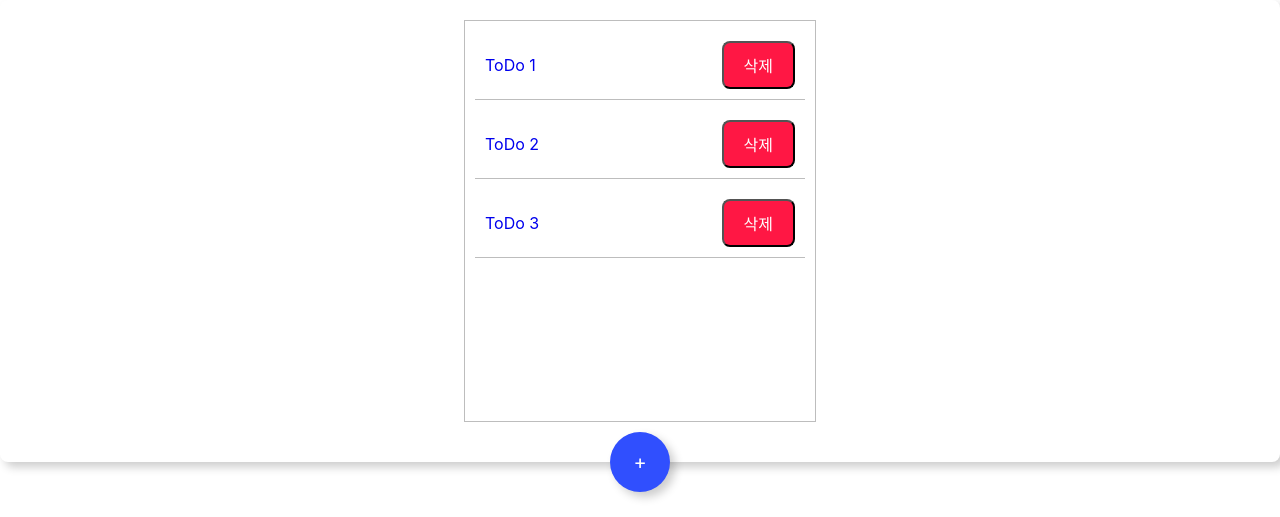
Scenario: <List /> › deletes toDo item
Expected: the link "ToDo 2" is shown, [485, 134, 539, 154]
Click the button "삭제" in the row of "ToDo 2".
click(758, 144)  # box [722, 120, 795, 168]
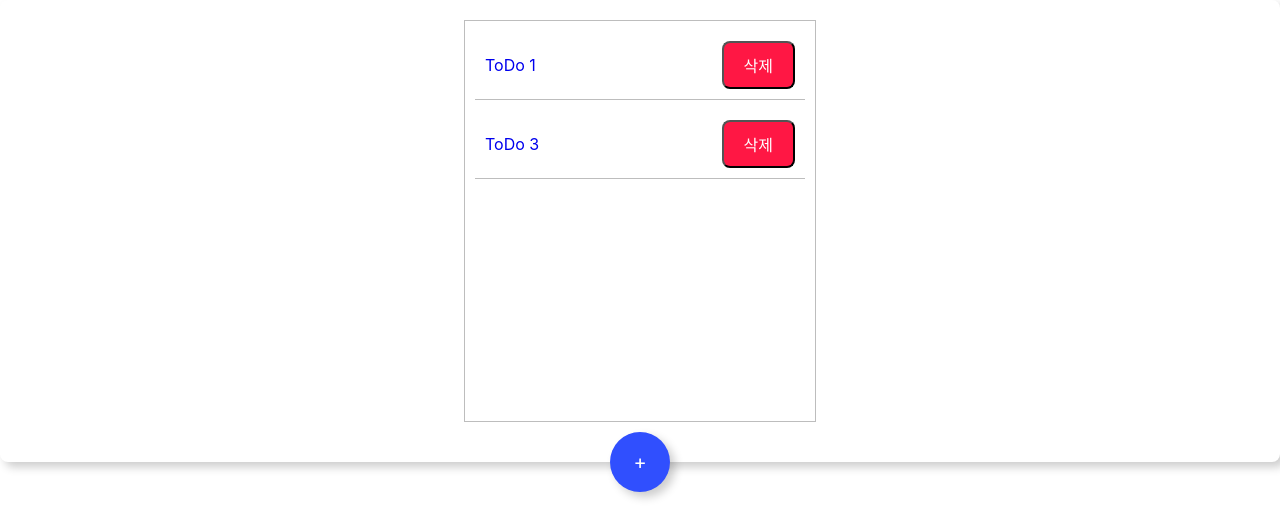
Result: the link "ToDo 2" is gone
Result: the link "ToDo 2" no longer shows "ToDo 2"
